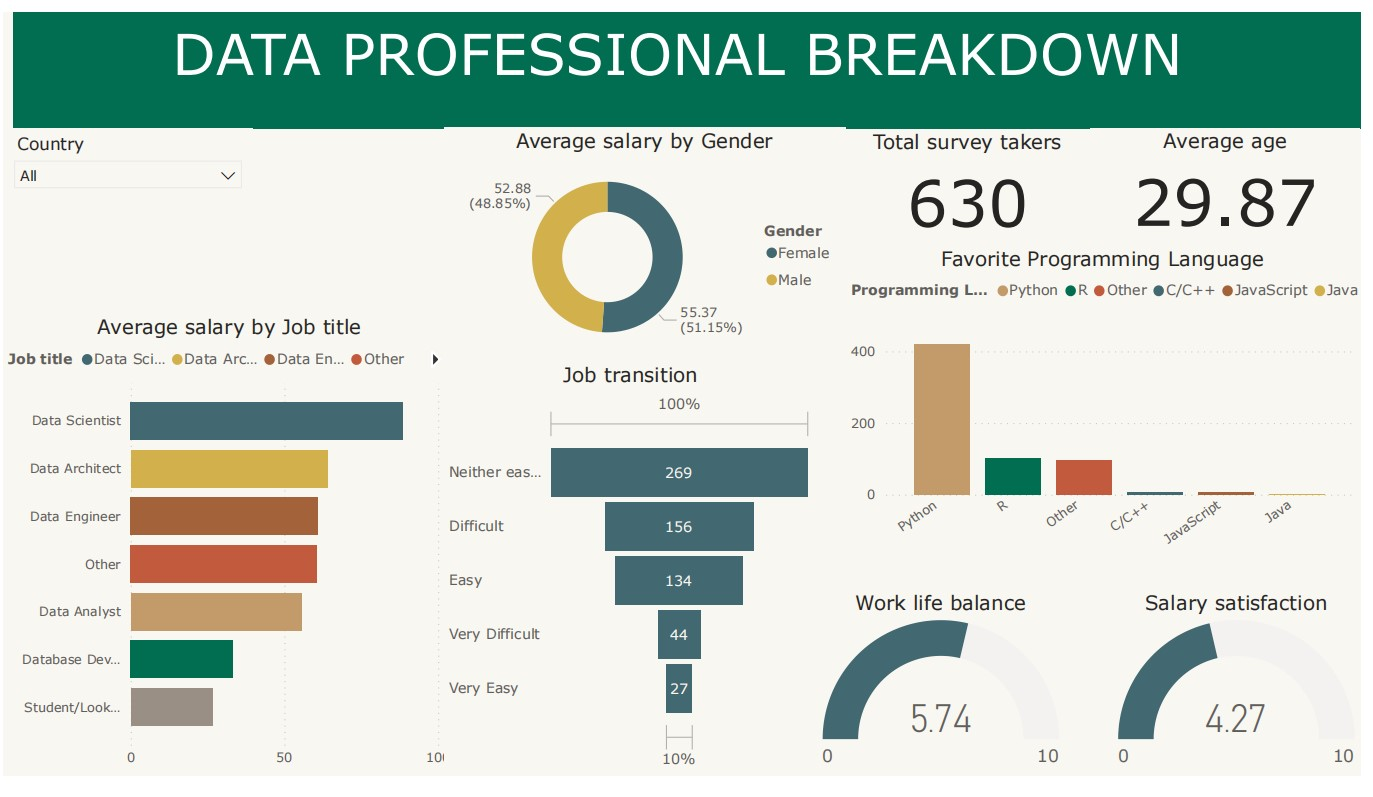

The dashboard page shown, as its layout file describes it:
{"tool":"powerbi","page":{"name":"Page 1","canvas":[1280,720],"ordinal":0},"visuals":[{"type":"card","title":"Total survey takers","fields":{"Values":["Count(Data Professional Survey.Unique ID)"]},"box":[794.6,110,229.8,110],"z":1000},{"type":"textbox","box":[9.6,0,1270.4,109.8],"z":1500},{"type":"card","title":"Average age","fields":{"Values":["Avg(Data Professional Survey.Q10 - Current Age)"]},"box":[1025.6,108.8,254.3,111.2],"z":2000},{"type":"barChart","title":"Average salary by Job title","fields":{"Y":["Avg(Data Professional Survey.Average salary)"],"Category":["Data Professional Survey.Q1 - Which Title Best Fits your Current Role?.1"],"Series":["Data Professional Survey.Q1 - Which Title Best Fits your Current Role?.1"]},"box":[0,285.4,426.7,434.9],"z":3000},{"type":"slicer","fields":{"Values":["Data Professional Survey.Q11 - Which Country do you live in?.1"]},"box":[0,108.4,234.6,177],"z":4000},{"type":"columnChart","title":"Favorite Programming Language","fields":{"Y":["CountNonNull(Data Professional Survey.Unique ID)"],"Category":["Data Professional Survey.Q5 - Favorite Programming Language.1.1.1"],"Series":["Data Professional Survey.Q5 - Favorite Programming Language.1.1.1"]},"box":[794.6,220,485.3,305.6],"z":5000},{"type":"donutChart","fields":{"Category":["Data Professional Survey.Q9 - Male/Female?"],"Y":["Avg(Data Professional Survey.Average salary)"]},"box":[415.7,108.4,378.6,222.3],"z":6000},{"type":"gauge","title":"Salary satisfaction","fields":{"Y":["Avg(Data Professional Survey.Q6 - How Happy are you in your Current Position with the following? (Salary))"],"MinValue":["Min(Data Professional Survey.Q6 - How Happy are you in your Current Position with the following? (Salary))"],"MaxValue":["Max(Data Professional Survey.Q6 - How Happy are you in your Current Position with the following? (Salary))"]},"box":[1046.8,544.7,233.2,175.6],"z":7000},{"type":"gauge","title":"Work life balance","fields":{"Y":["Avg(Data Professional Survey.Q6 - How Happy are you in your Current Position with the following? (Work/Life Balance))"],"MinValue":["Min(Data Professional Survey.Q6 - How Happy are you in your Current Position with the following? (Work/Life Balance))"],"MaxValue":["Max(Data Professional Survey.Q6 - How Happy are you in your Current Position with the following? (Work/Life Balance))"]},"box":[768.3,544.7,233.2,175.6],"z":8000},{"type":"funnel","title":"Job transition","fields":{"Category":["Data Professional Survey.Q7 - How difficult was it for you to break into Data?"],"Y":["CountNonNull(Data Professional Survey.Unique ID)"]},"box":[415.7,330.6,352.6,389.6],"z":9000}]}

Visuals, with their boxes on the page's 1280x720 design canvas (x1, y1, x2, y2). These are canvas units, not pixel positions in the 1373x797 screenshot, which may show the page scaled, cropped or inside an application window:
"Total survey takers" card: 795 110 1024 220
textbox: 10 0 1280 110
"Average age" card: 1026 109 1280 220
"Average salary by Job title" barChart: 0 285 427 720
slicer - Data Professional Survey.Q11 - Which Country do you live in?.1: 0 108 235 285
"Favorite Programming Language" columnChart: 795 220 1280 526
donutChart - Data Professional Survey.Q9 - Male/Female? x Avg(Data Professional Survey.Average salary): 416 108 794 331
"Salary satisfaction" gauge: 1047 545 1280 720
"Work life balance" gauge: 768 545 1002 720
"Job transition" funnel: 416 331 768 720
